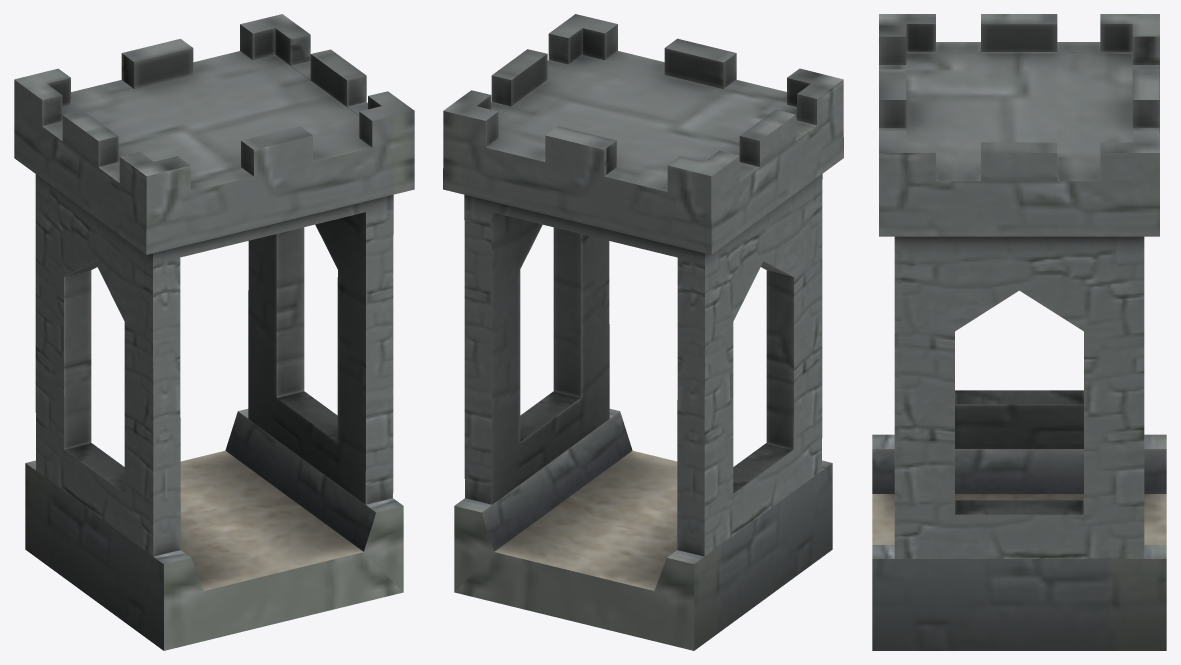
File: med_tile_door.obj
3 renders of one model, left to right at view 1: azimuth 30°, elevation 25°; view 2: azimuth 150°, elevation 25°; view 3: azimuth 270°, elevation 25°, orthographic. The views are drawn at different scales.
Parts seen in each view (by area): view 1: gateasdf; view 2: gateasdf; view 3: gateasdf.
Part boxes in pixels (x1,y1,x2,y2): gateasdf: [14, 14, 414, 650]; gateasdf: [443, 14, 843, 650]; gateasdf: [872, 14, 1166, 650].
Size of the model in its own units: 1.12 by 1.9 by 1.
Materials: 1 (1 with a texture image).
